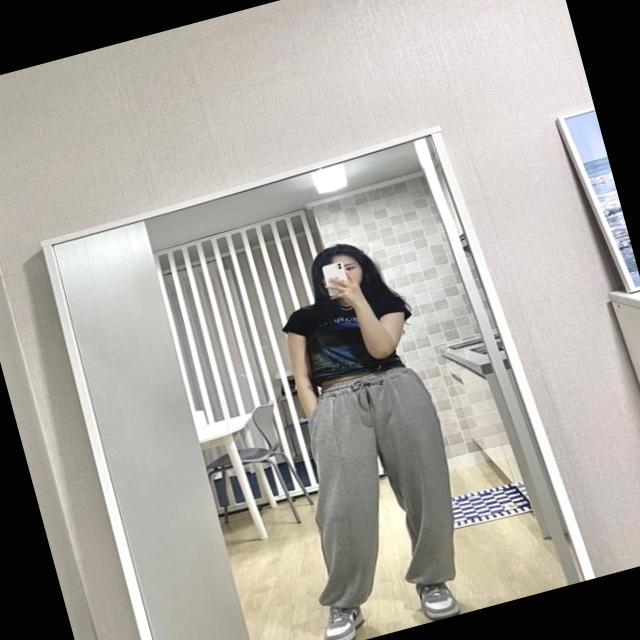shortsleeve: (274, 273, 418, 387)
trainingpants: (268, 352, 484, 611)
